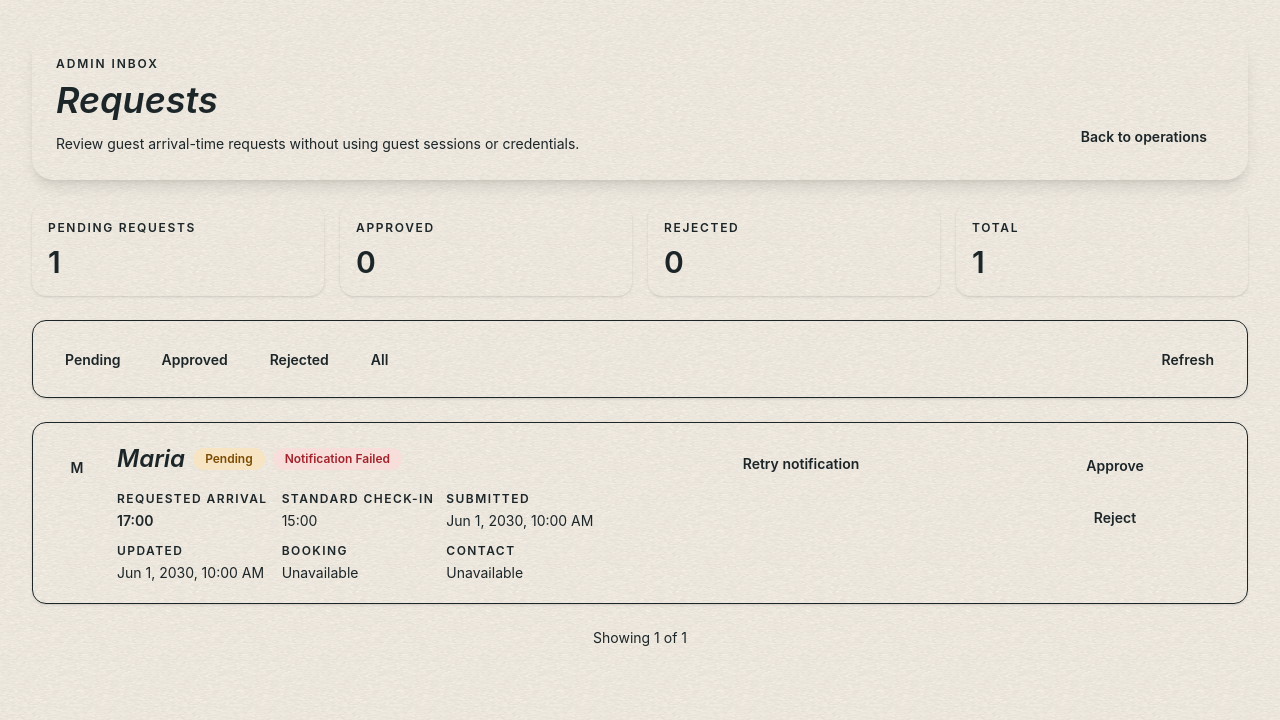
Test: admin arrival requests: failed notifications › marks a failed notification and requeues it on request
expect the text "Notification failed" is shown: met, box [273, 448, 402, 470]
Click the button "Retry notification".
click(801, 463)  # box [689, 443, 913, 483]
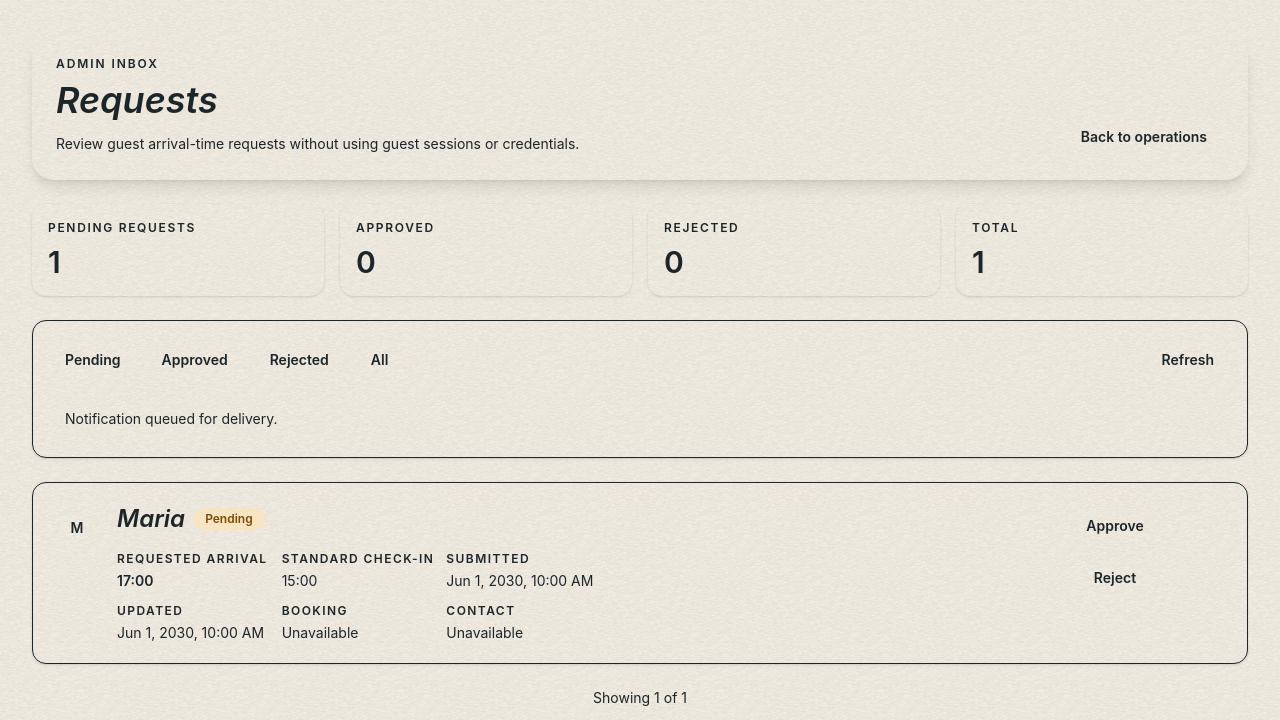
expect the text "Notification queued for delivery." is shown: met, box [65, 410, 278, 427]
expect the text "Notification failed" is gone: met
